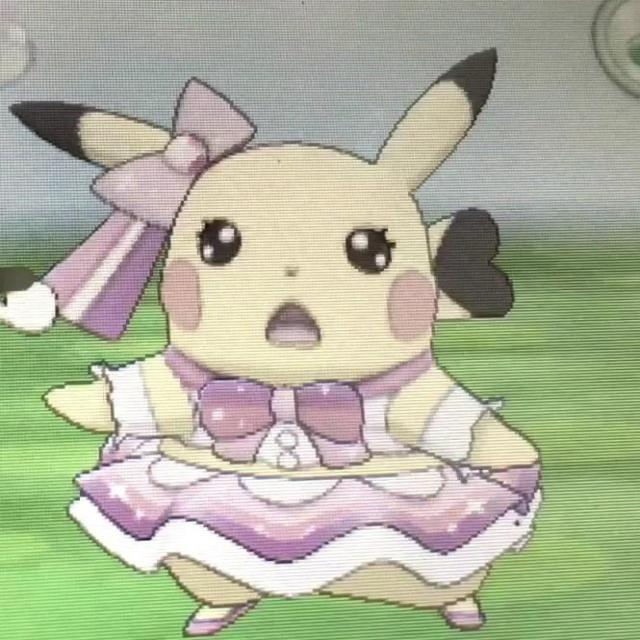pikachu: (10, 48, 541, 638)
